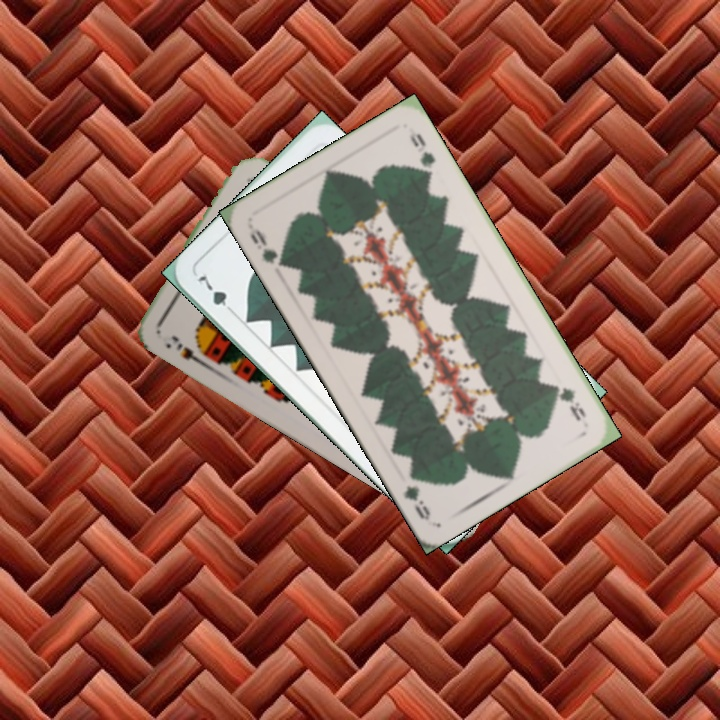G7: (194, 269, 239, 318)
G9: (244, 221, 290, 270), (548, 378, 589, 424)
S9: (167, 331, 213, 369)
